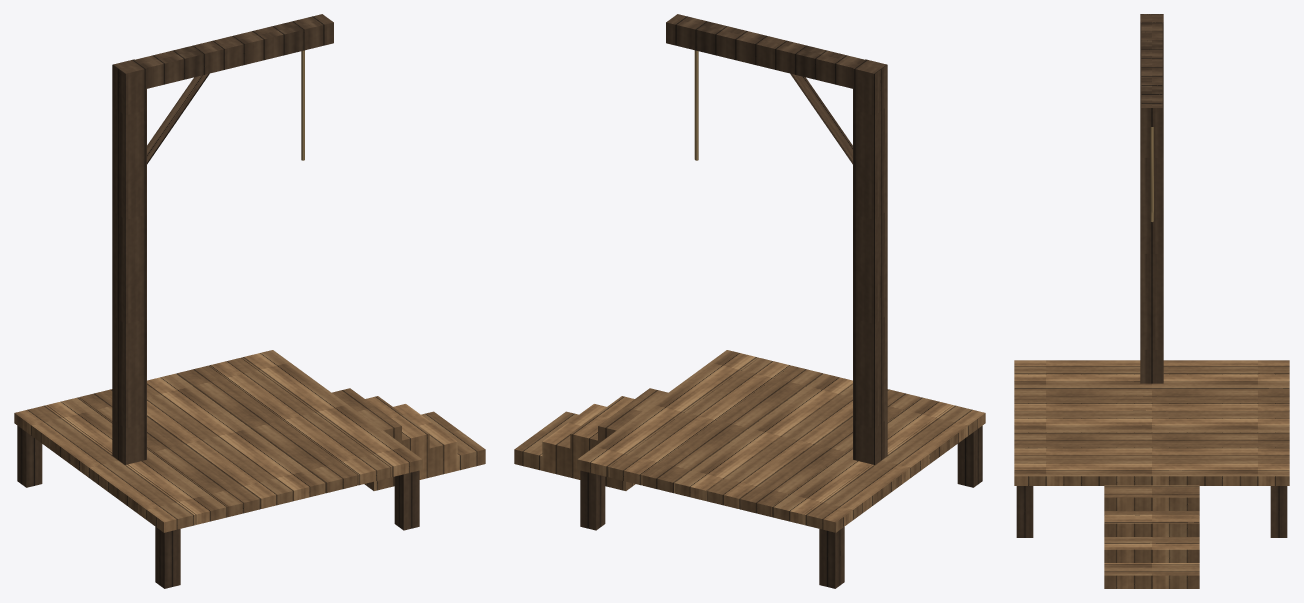
Rendered from Gallows_1.gltf.
3 views of the same model, side by side, from view 1: azimuth 30°, elevation 25°; view 2: azimuth 150°, elevation 25°; view 3: azimuth 270°, elevation 25° (orthographic). The views are drawn at different scales.
Parts seen in each view (by area): view 1: Gallows_1; view 2: Gallows_1; view 3: Gallows_1.
Part boxes in pixels (x1=…): Gallows_1: x1=14, y1=14, x2=485, y2=588; Gallows_1: x1=514, y1=14, x2=985, y2=588; Gallows_1: x1=1014, y1=14, x2=1289, y2=588.
Bounding box in the file's own units: 3.72 × 4.4 × 2.6.
3 materials, 3 textured.
